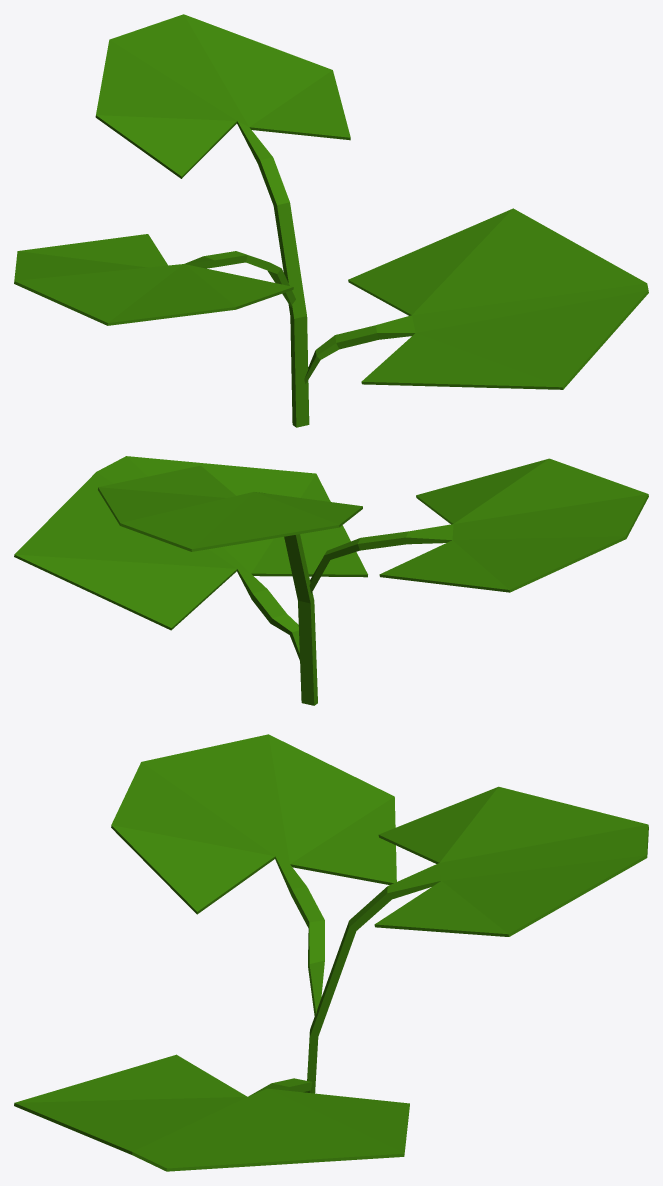
File: Plant_h_01.fbx
The picture shows the model from 3 angles, top to bottom: view 1: azimuth 30°, elevation 25°; view 2: azimuth 150°, elevation 25°; view 3: azimuth 270°, elevation 25°; orthographic projection. The views are drawn at different scales.
Parts seen in each view (by area): view 1: Plant_h_01_LOD0; view 2: Plant_h_01_LOD0; view 3: Plant_h_01_LOD0.
Part boxes in pixels (bbox=[...]): Plant_h_01_LOD0: bbox=[14, 14, 648, 427]; Plant_h_01_LOD0: bbox=[14, 456, 648, 705]; Plant_h_01_LOD0: bbox=[14, 734, 648, 1171].
Size of what is drawn, in the model's own units: 17.76 by 8.32 by 15.22.
